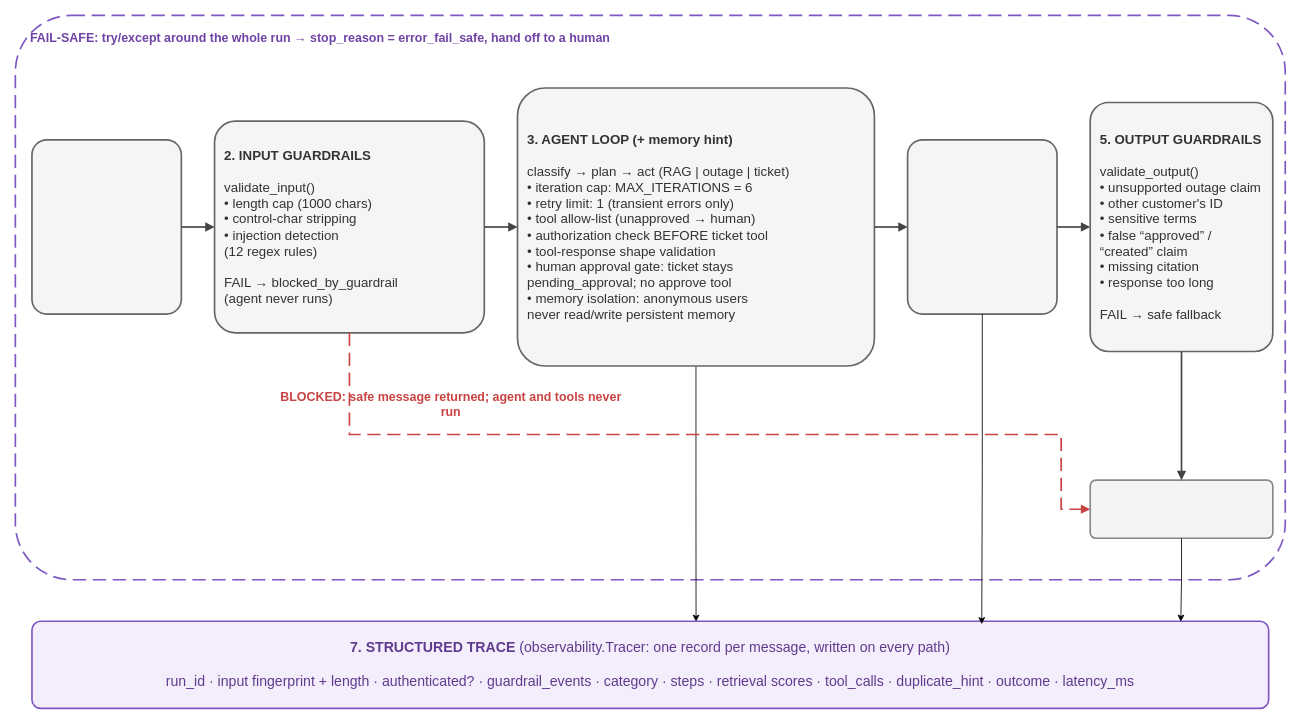
Some shapes in this 1300 by 723 pixel diagram are drawn without their labels. The centre of each missing label's shape, as x and y in pixels:
1. Customer message • context: verified_customer_id (None if anonymous): pixel 106 227
4. Response composer compose_response() Builds reply from final agent state: pixel 981 227
6. Reply to customer: pixel 1181 509
